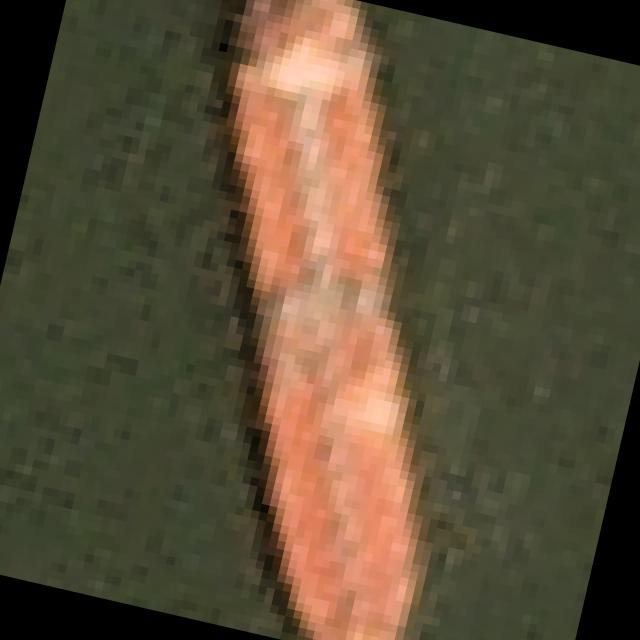ship: (62, 0, 599, 640)
